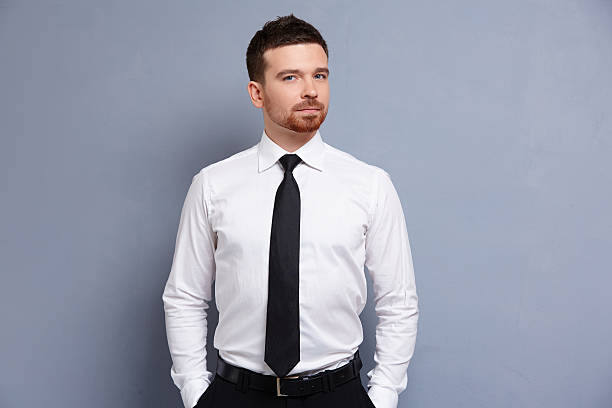F_belt: (213, 355, 367, 396)
F_shirt: (159, 131, 420, 408)
F_tie: (265, 153, 305, 376)
